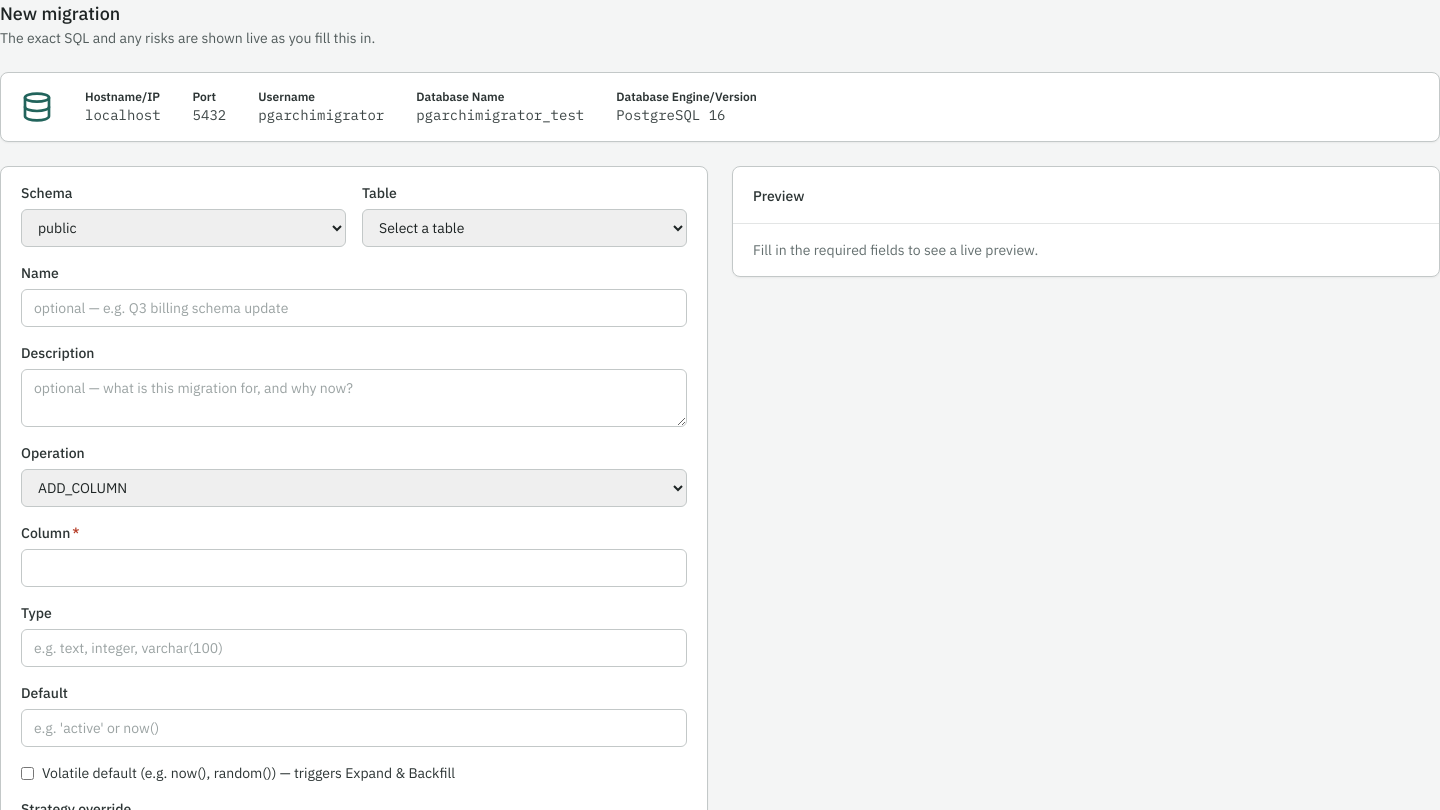
Scenario: NewMigration — write load check (SHADOW_TABLE only) › shows a caution note (not a blocking error) when the sampled rate crosses the threshold
Select "orders" in the dropdown labelled "Table". click: coordinates (524, 228)
box: [362,209,687,247]
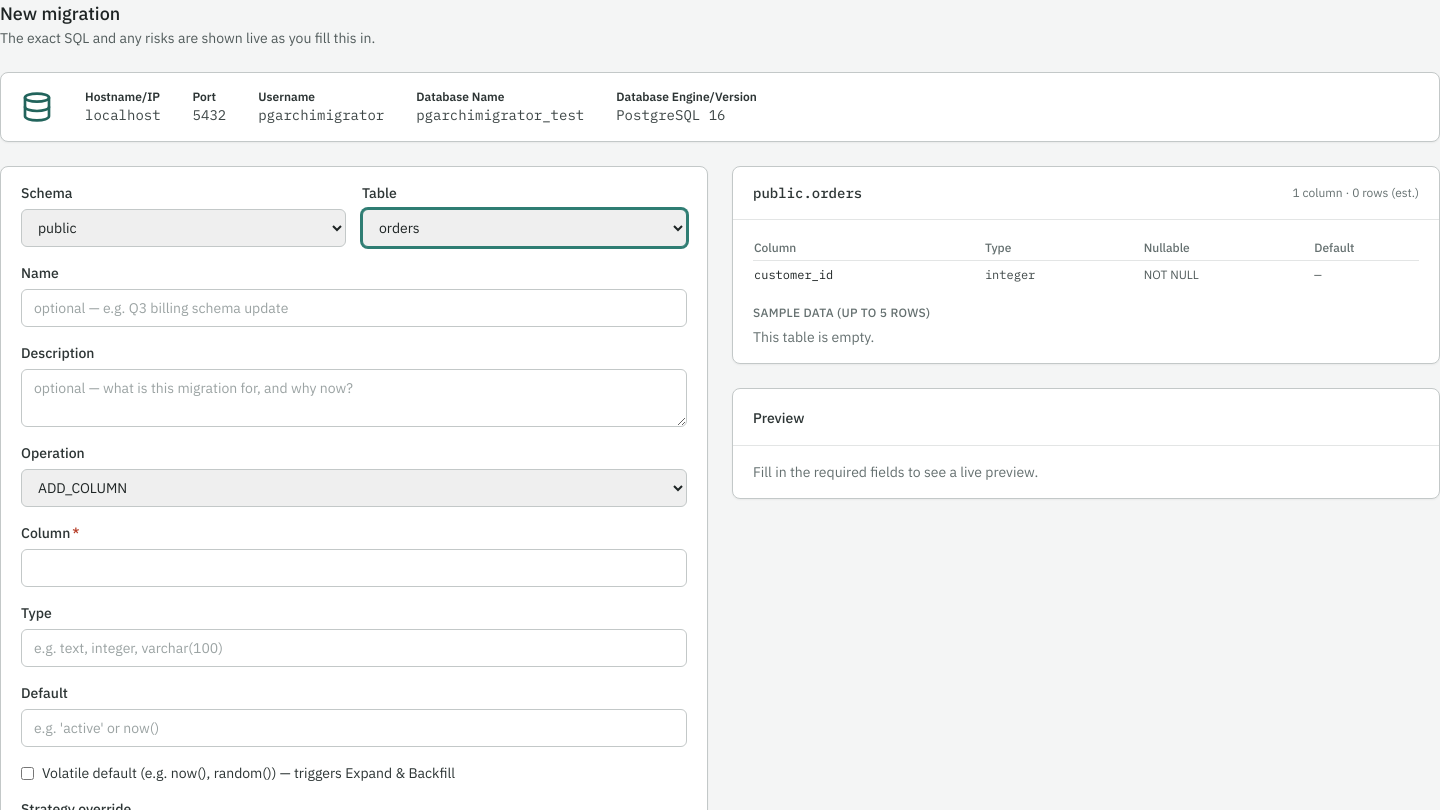
Select "ALTER_COLUMN_TYPE" in the dropdown labelled "Operation". click: coordinates (354, 488)
box: [21,469,687,507]
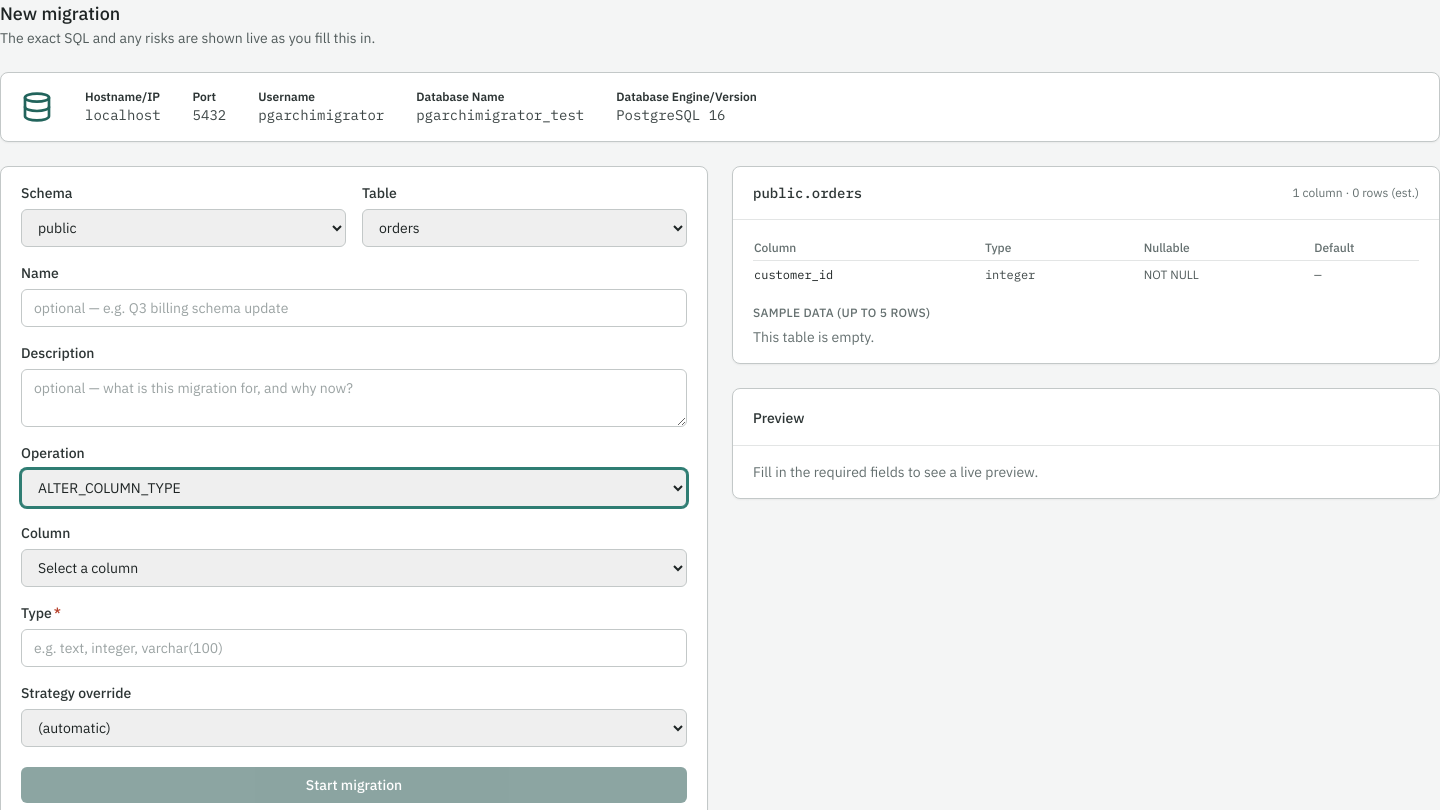
Select "customer_id — integer" in the dropdown labelled "Column". click: coordinates (354, 568)
box: [21,549,687,587]
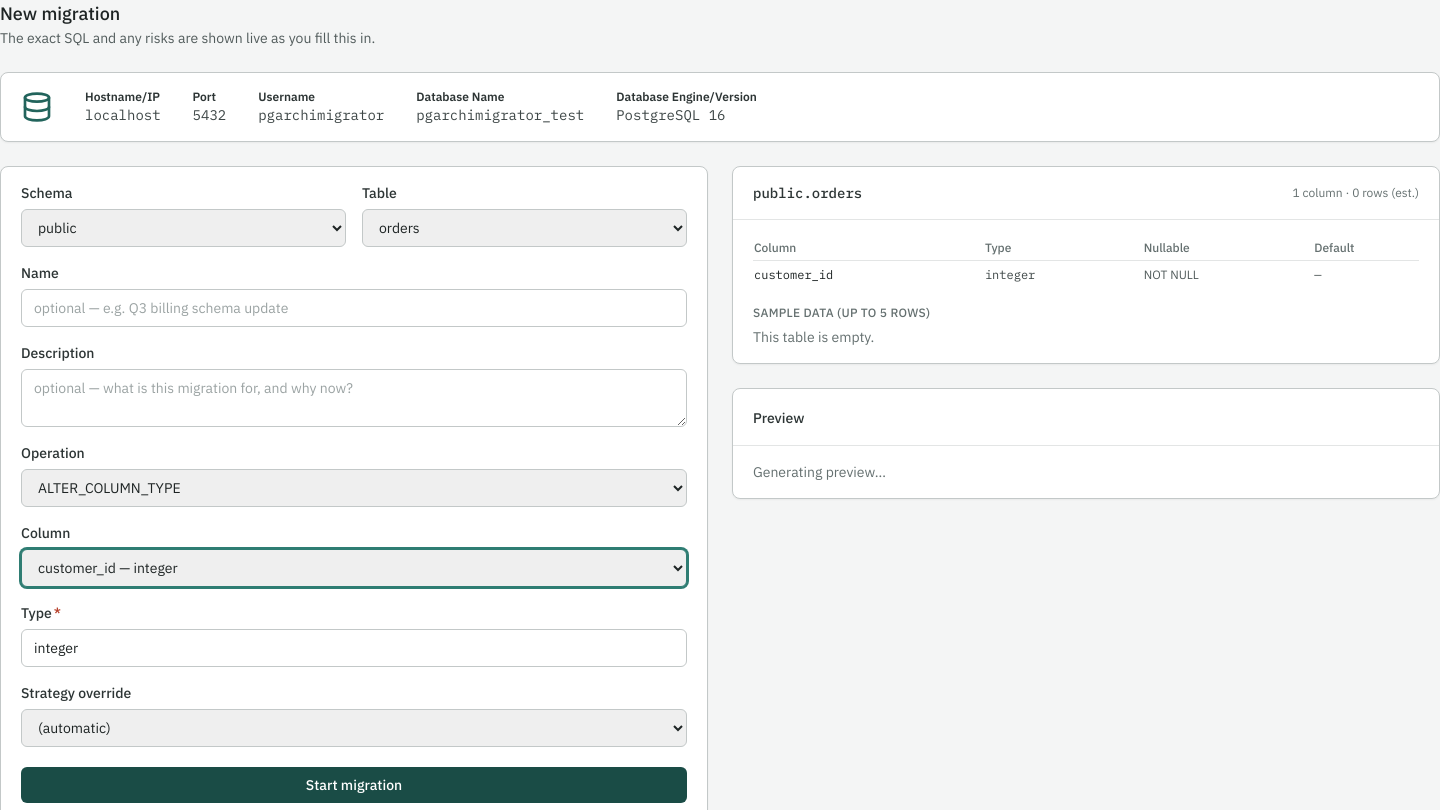
Type "text" into the field labelled "Type*". click: coordinates (354, 648)
box: [21,629,687,667]
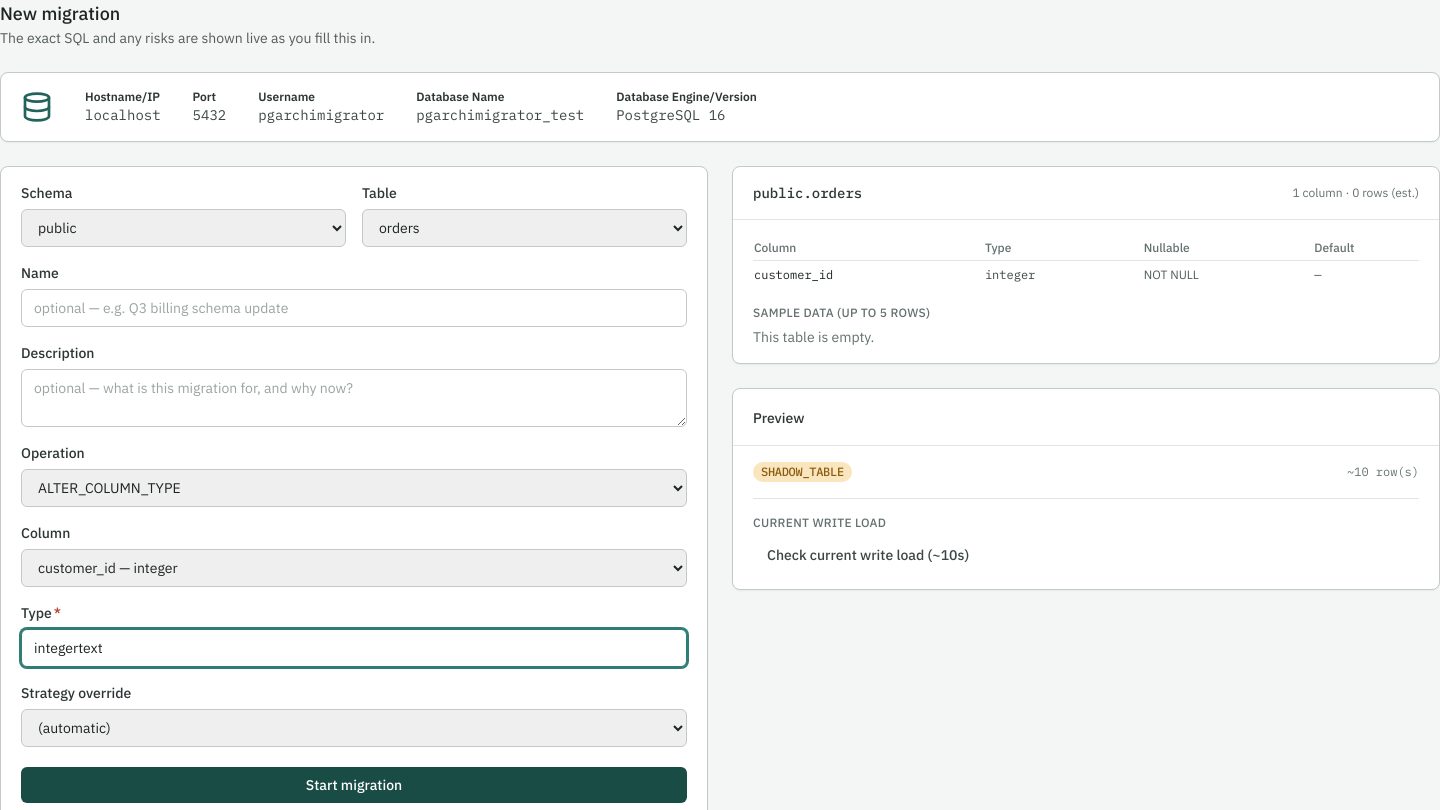
Expected: the text "Generating preview…" is gone
Click the button "Check current write load (~10s)". click: coordinates (868, 555)
box: [753,537,983,573]
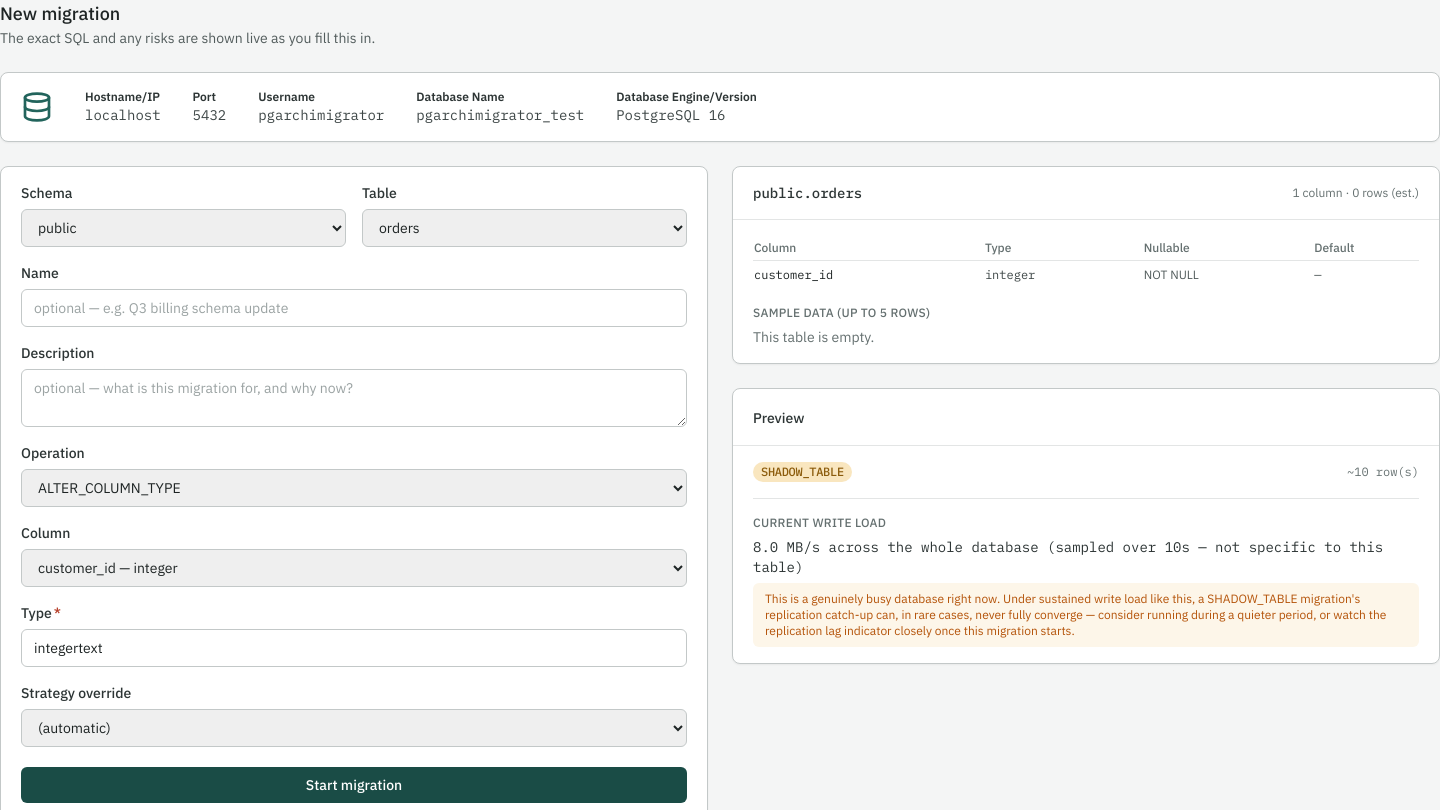
Expected: the button "Start migration" is enabled, [21,767,687,803]
Expected: the text "genuinely busy database" is shown, [765,591,1386,638]
